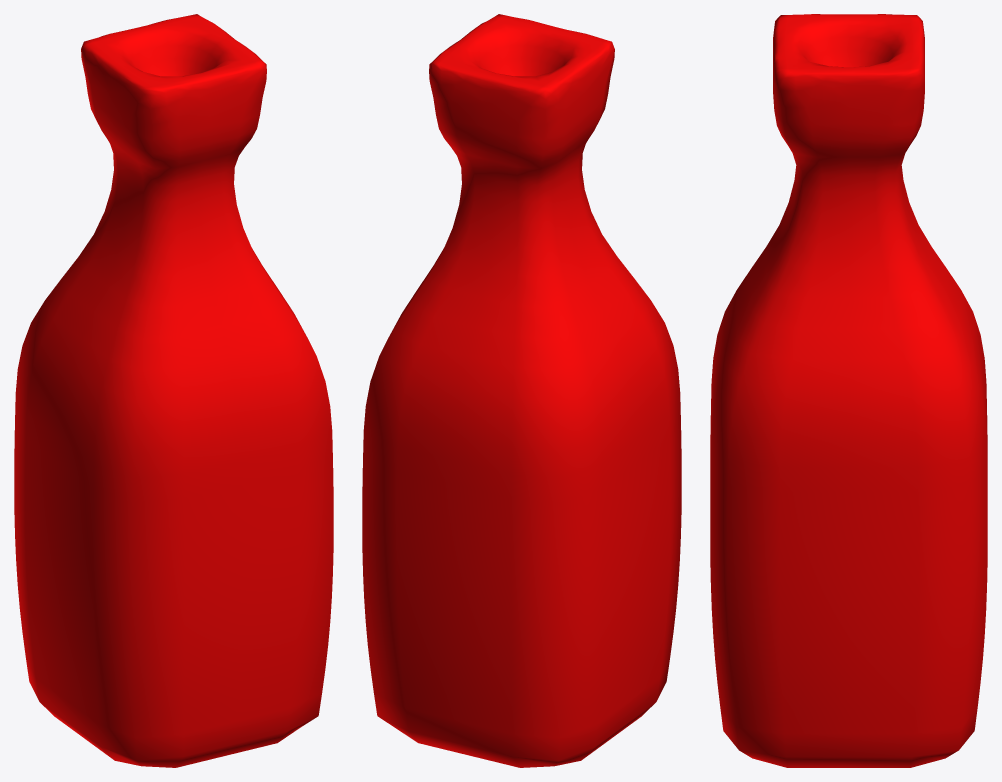
File: umgebung_flasche_1_low.FBX
The picture shows the model from 3 angles, left to right: view 1: azimuth 30°, elevation 25°; view 2: azimuth 150°, elevation 25°; view 3: azimuth 270°, elevation 25°; orthographic projection. The views are drawn at different scales.
Parts seen in each view (by area): view 1: o_flasche_1_low; view 2: o_flasche_1_low; view 3: o_flasche_1_low.
Boxes of the visible parts, box(x1,y1,x2,y2) form: o_flasche_1_low: box(14, 14, 333, 767); o_flasche_1_low: box(362, 14, 681, 767); o_flasche_1_low: box(710, 14, 987, 767).
Bounding box in the file's own units: 10.24 × 28.58 × 10.48.
